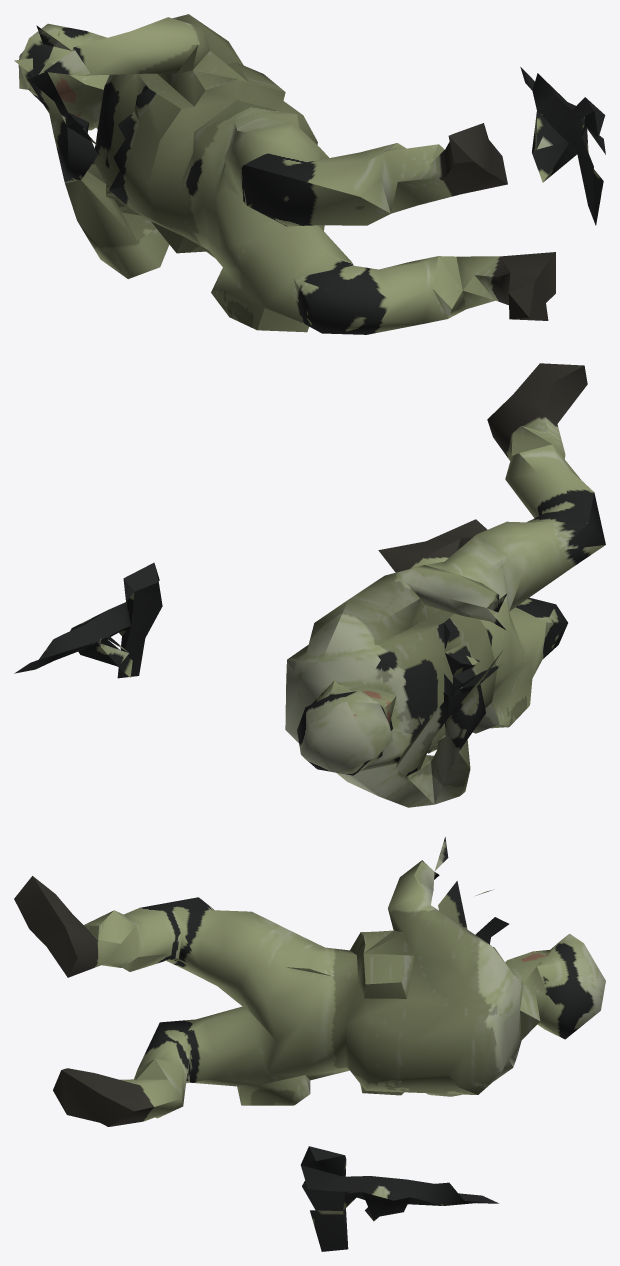
File: rifle_soldier_body.glb
3 views of the same model, one above another, from view 1: azimuth 30°, elevation 25°; view 2: azimuth 150°, elevation 25°; view 3: azimuth 270°, elevation 25° (orthographic). The views are drawn at different scales.
Visible parts, largest first — view 1: rifle_soldier_body; view 2: rifle_soldier_body; view 3: rifle_soldier_body.
Part boxes in pixels (x1,y1,x2,y2): rifle_soldier_body: (14, 14, 605, 334); rifle_soldier_body: (14, 363, 605, 807); rifle_soldier_body: (14, 837, 605, 1251).
Bounding box in the file's own units: 0.186 × 0.1013 × 0.221.
Materials: 1 (1 with a texture image).
